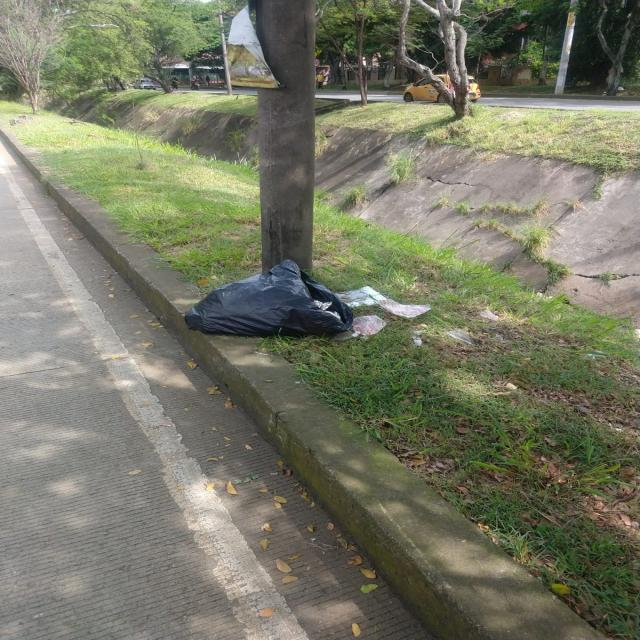Garbage_Bag: (172, 256, 366, 341)
